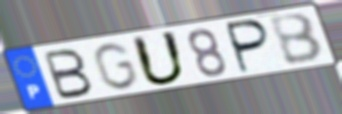8: (187, 27, 228, 78)
B: (266, 11, 327, 67), (42, 47, 96, 102)
G: (90, 41, 141, 92)
P: (225, 18, 273, 76)
U: (129, 29, 190, 88)
